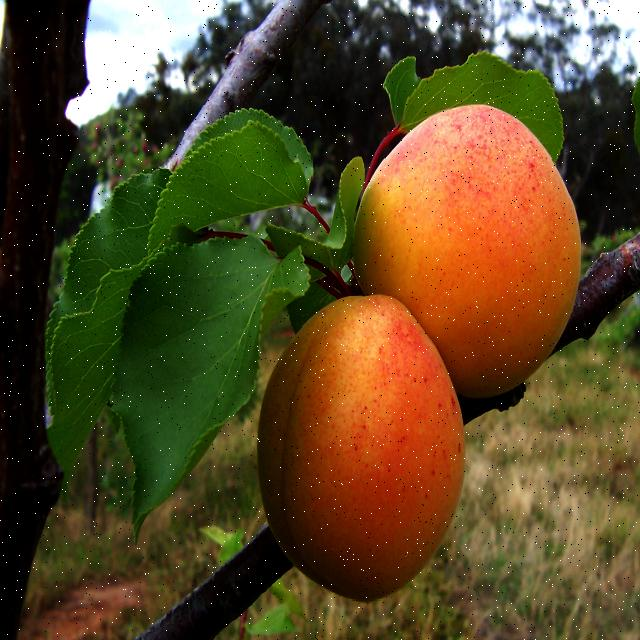kayisi: (355, 107, 582, 396), (258, 297, 462, 600)
yaprak: (114, 233, 302, 534), (46, 170, 169, 474), (149, 105, 312, 254), (385, 52, 563, 159)
